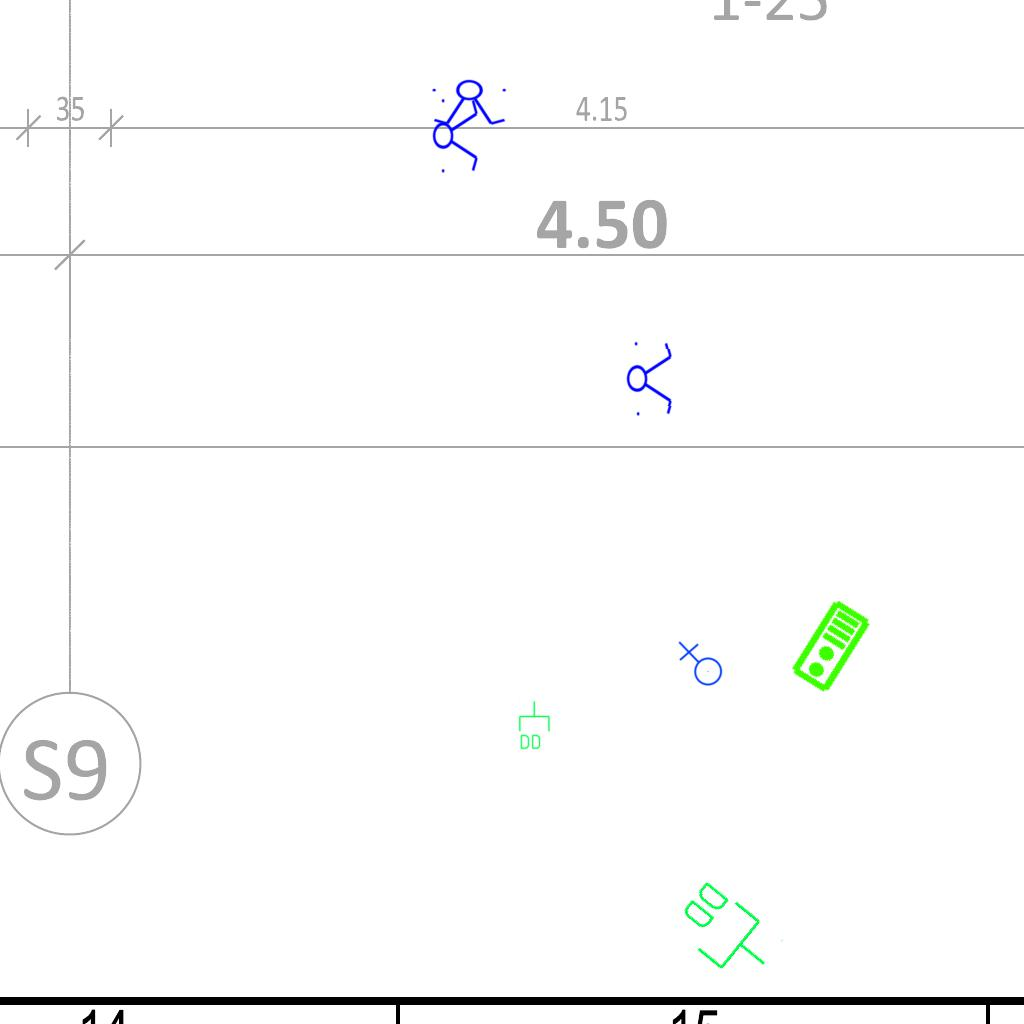Datenanschluss_zweifach: (664, 873, 789, 992), (517, 700, 551, 751)
Elektroanschluss_allgemein_230V_Geraeteanschlussdose_230V: (676, 641, 723, 690)
Gegensprechanlage_mit_Video: (788, 597, 875, 697)
Serienschalter: (625, 335, 675, 421), (428, 79, 512, 127), (432, 93, 480, 177)
